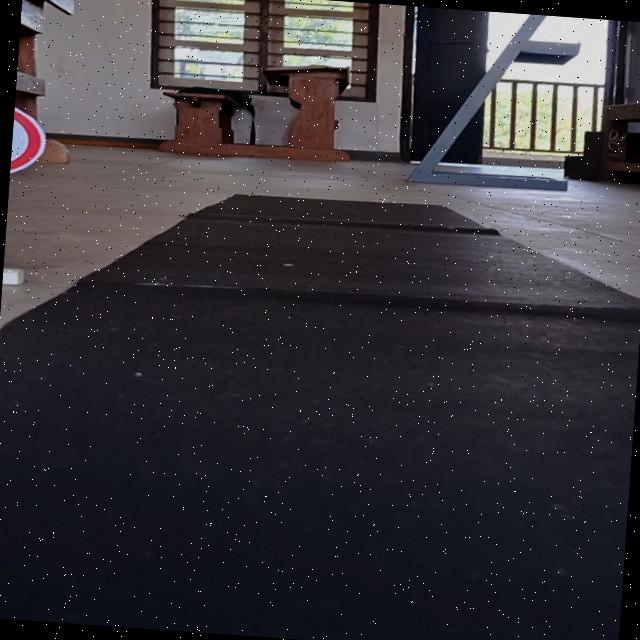Speed60: (9, 99, 54, 183)
